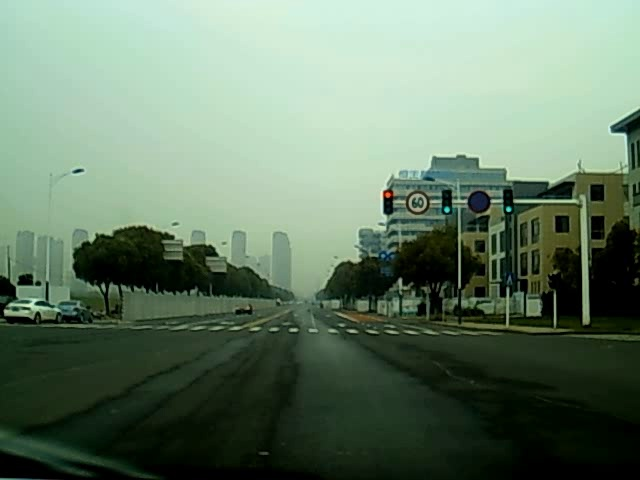Traffic_Light_go: (502, 192, 514, 218), (441, 191, 452, 217)
Traffic_Light_stop: (382, 190, 393, 215)
